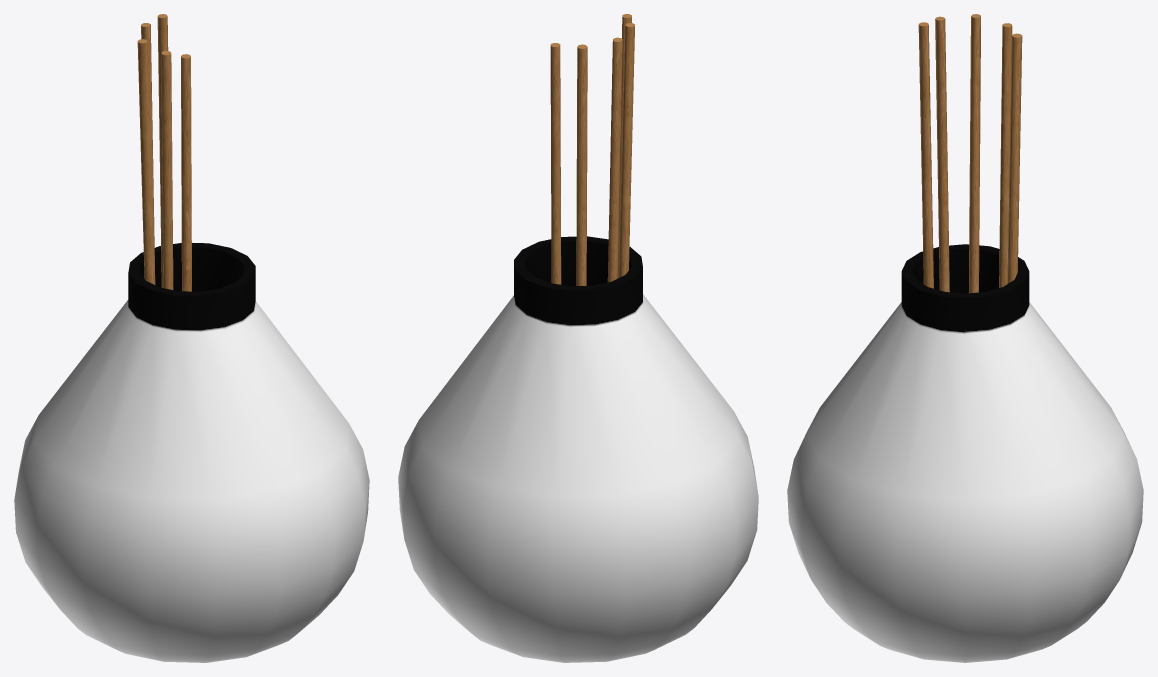
Rendered from aroma_vase.glb.
The picture shows the model from 3 angles, left to right: view 1: azimuth 30°, elevation 25°; view 2: azimuth 150°, elevation 25°; view 3: azimuth 270°, elevation 25°; orthographic projection. The views are drawn at different scales.
Visible parts, largest first — view 1: aroma_vase, aromastick_3, aromastick_4, aromastick_5, aromastick_1, aromastick_2; view 2: aroma_vase, aromastick_2, aromastick_4, aromastick_3, aromastick_1, aromastick_5; view 3: aroma_vase, aromastick_3, aromastick_4, aromastick_5, aromastick_1, aromastick_2.
Boxes of the visible parts, box(x1,y1,x2,y2) form: aroma_vase: box(14, 243, 369, 662); aromastick_3: box(137, 39, 154, 284); aromastick_4: box(161, 51, 173, 289); aromastick_5: box(181, 54, 191, 291); aromastick_1: box(157, 14, 168, 287); aromastick_2: box(141, 23, 155, 284); aroma_vase: box(398, 236, 758, 662); aromastick_2: box(576, 44, 587, 285); aromastick_4: box(619, 23, 634, 277); aromastick_3: box(607, 37, 622, 282); aromastick_1: box(550, 43, 561, 284); aromastick_5: box(617, 14, 631, 278); aroma_vase: box(787, 244, 1143, 662); aromastick_3: box(969, 14, 980, 293); aromastick_4: box(935, 16, 949, 292); aromastick_5: box(918, 22, 933, 288); aromastick_1: box(1007, 33, 1022, 283); aromastick_2: box(999, 23, 1012, 287).
Size of the model in its own units: 0.14 by 0.2564 by 0.14.
Materials: 1 (1 with a texture image).
